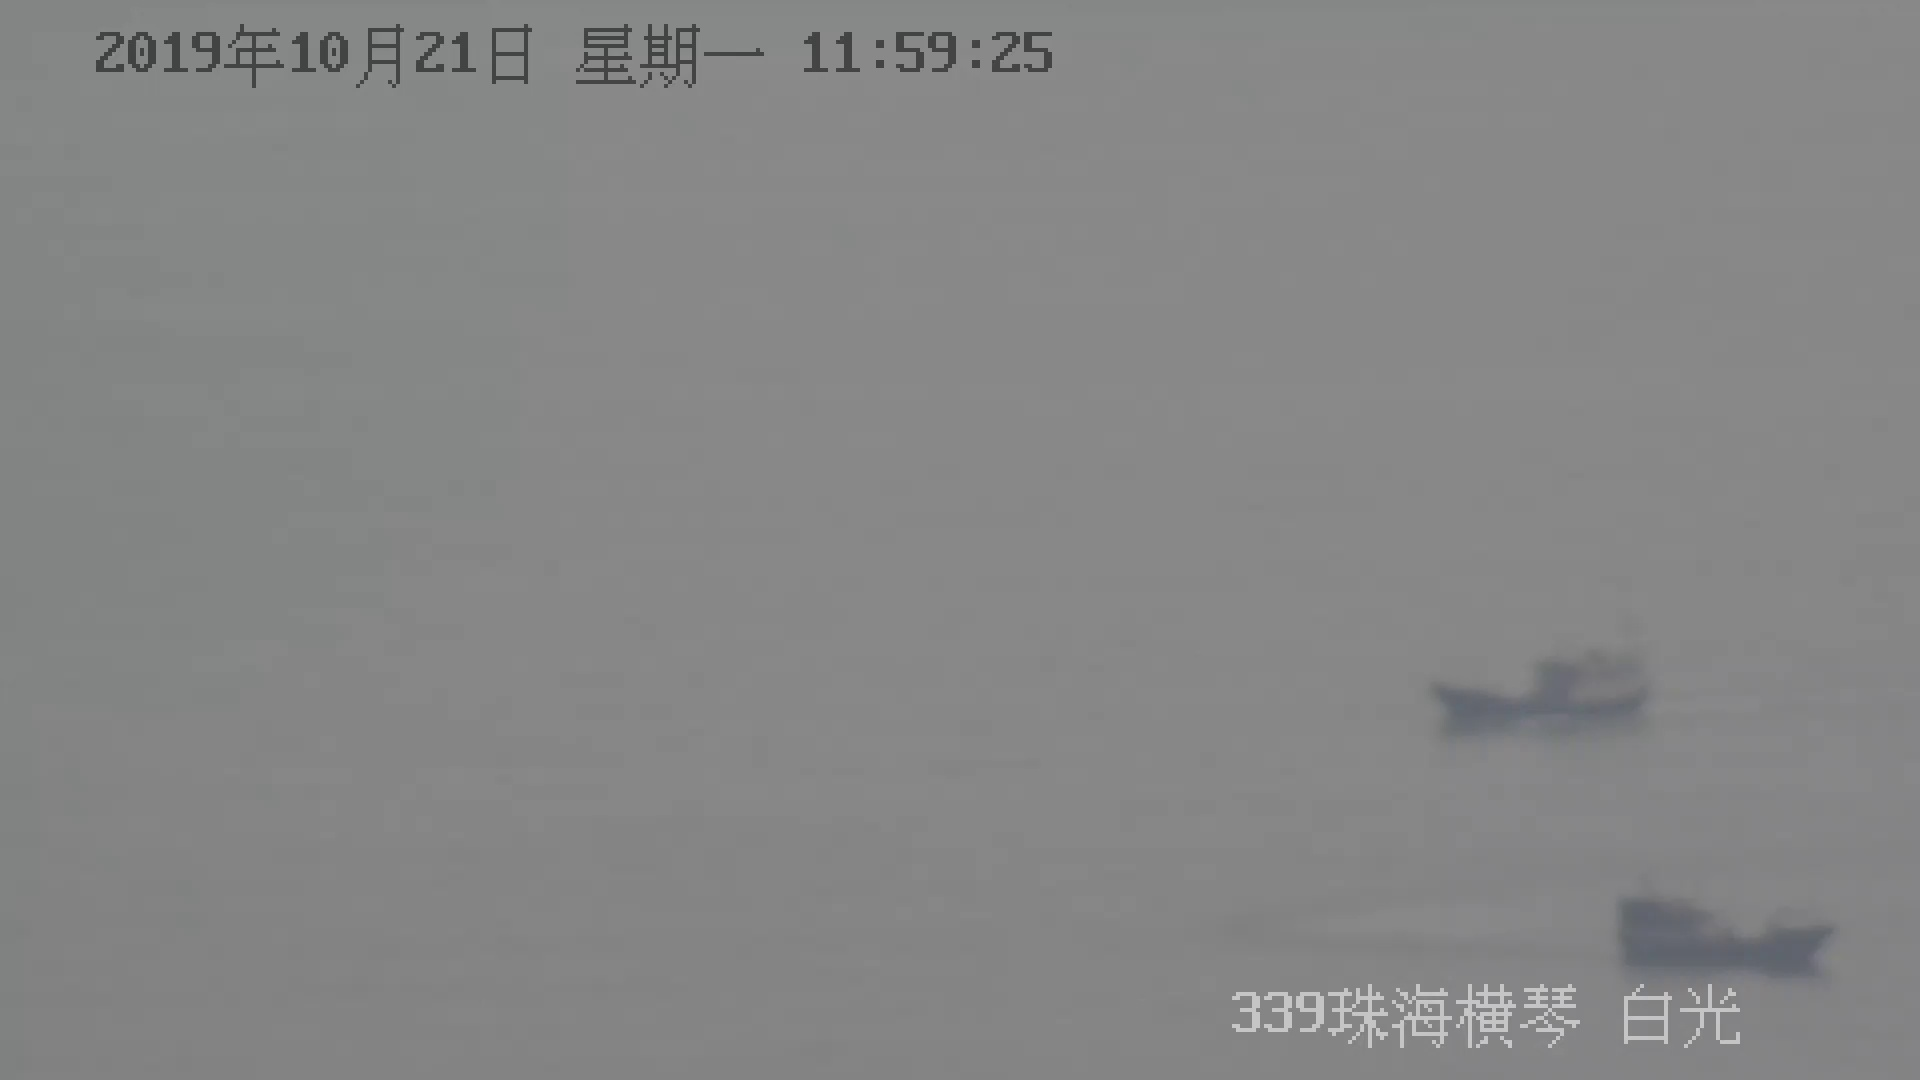ship: (1617, 885, 1830, 975), (1429, 644, 1656, 727)
